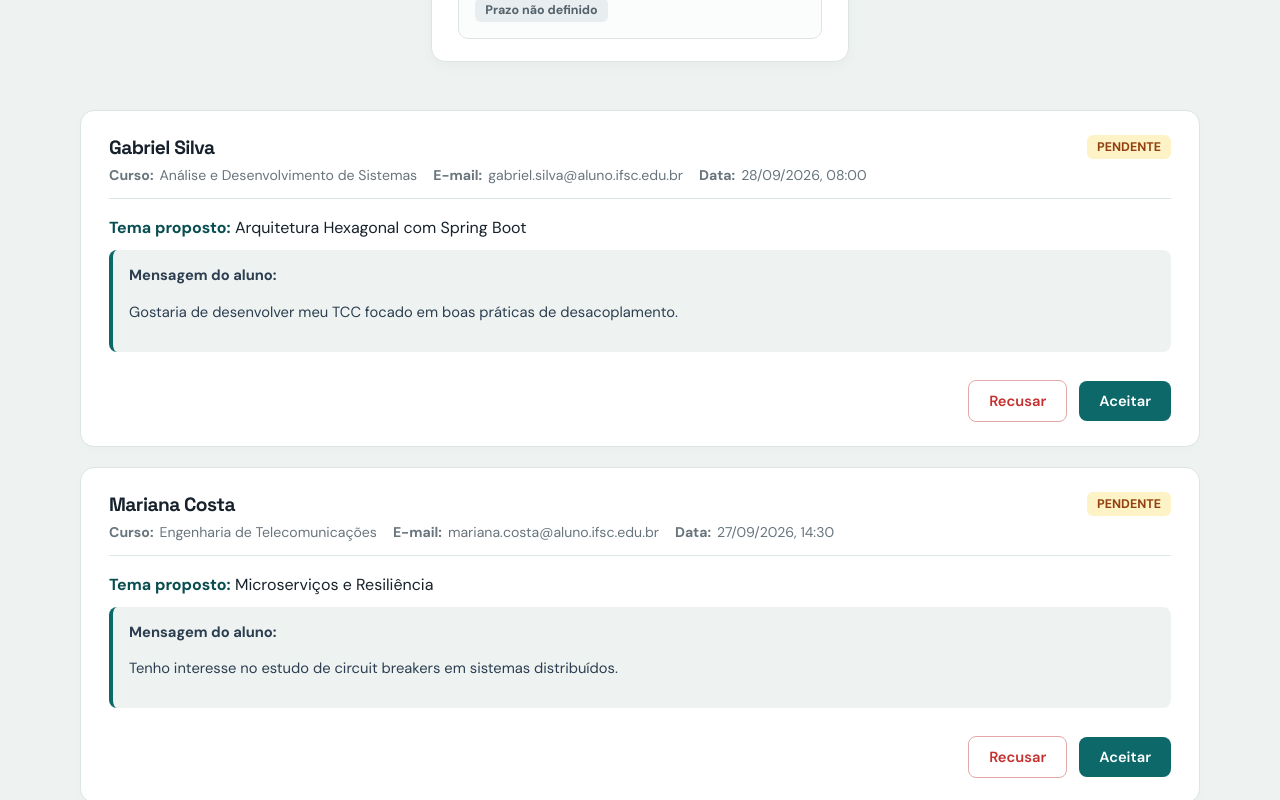
Test: PainelSolicitacoesPage (Issue #87) › deve aceitar uma solicitação, removê-la da tela e atualizar o indicador de vagas com o retorno da API
The width and height of the screenshot is (1280, 800).
(page scrolled)
Check: the heading "Gabriel Silva" is shown, box [109,135,214,160]
Click the button "Aceitar" below "28/09/2026, 08:00". click: x=1125, y=401
box: [1079,381,1171,421]
(page scrolled)
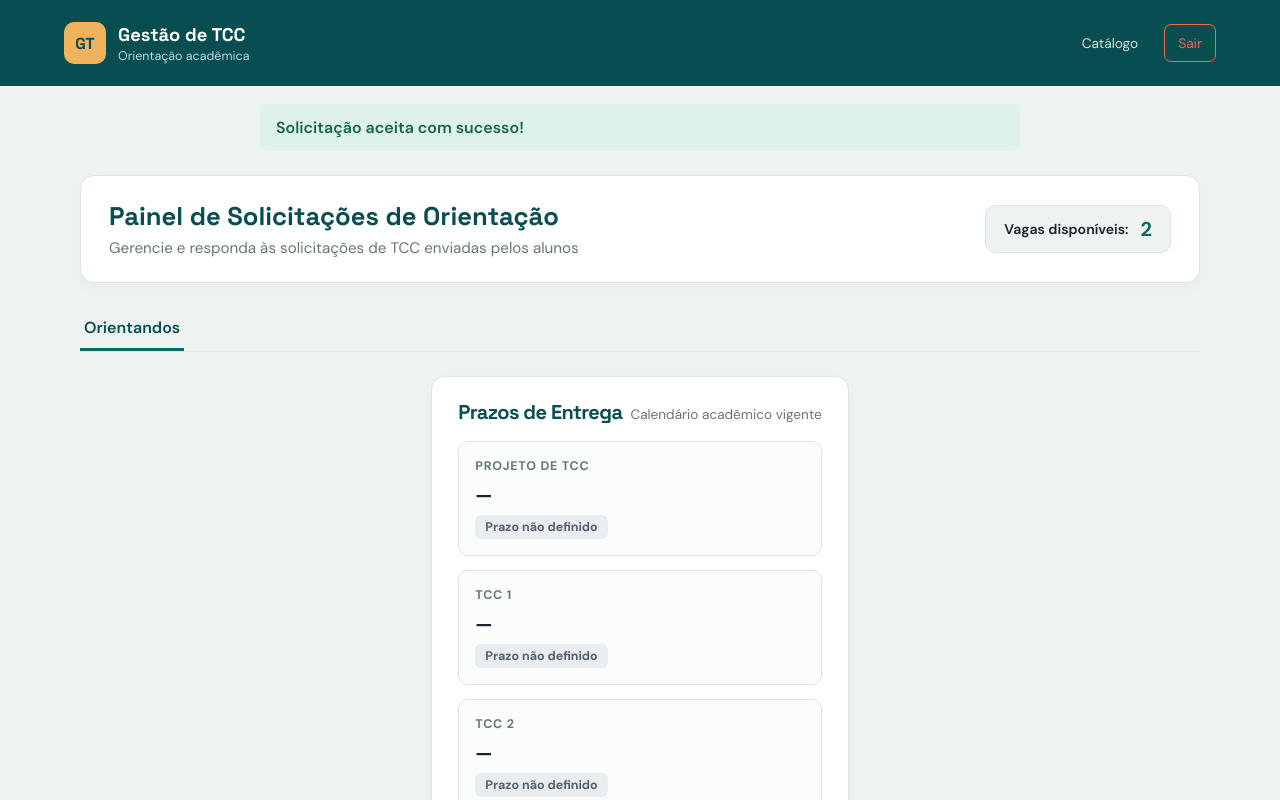
Check: the heading "Gabriel Silva" is gone
Check: the text "2" is shown, box [1140,216,1152,242]
Check: the text "Solicitação aceita com sucesso!" is shown, box [260,104,1020,151]
